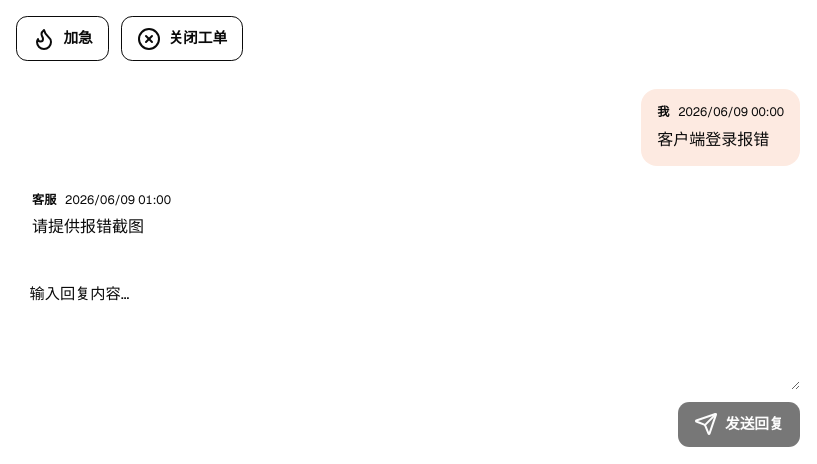
it: TicketThread › marks the ticket urgent via the 加急 button
Expected: the text "客户端登录报错" is shown, [657,127,784,152]
What coordinates should you click on to do the following:
click the button "加急"
I would click on:
 (62, 39)
Its box is [16,16,109,61].
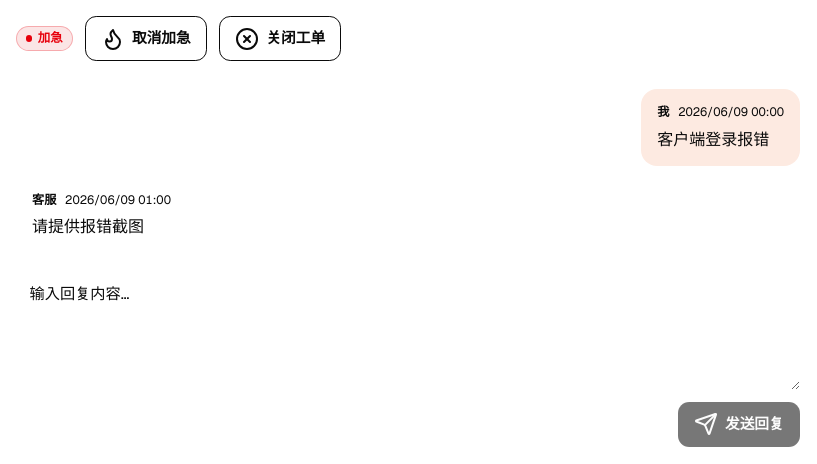
Result: the button "取消加急" is shown at [84,16,207,61]
